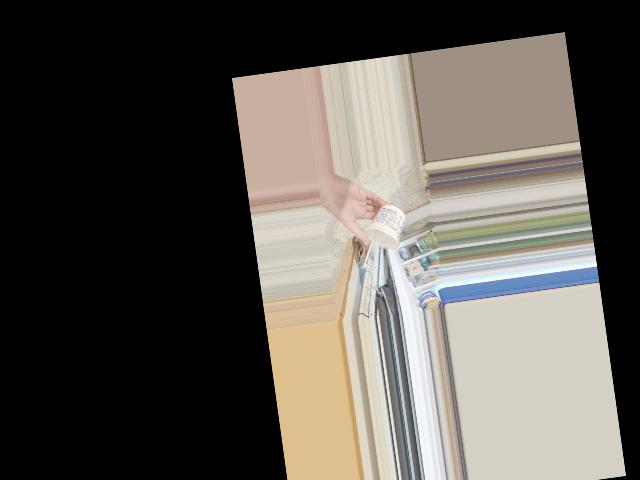cotage: (362, 201, 406, 253)
